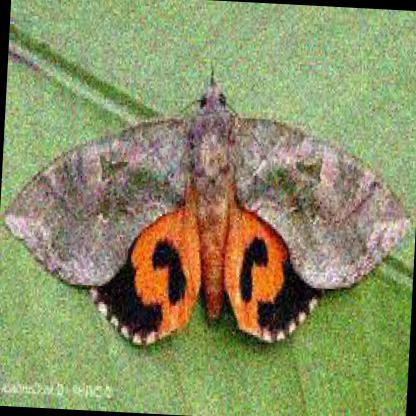fruit sucking moth: (3, 65, 412, 356)
